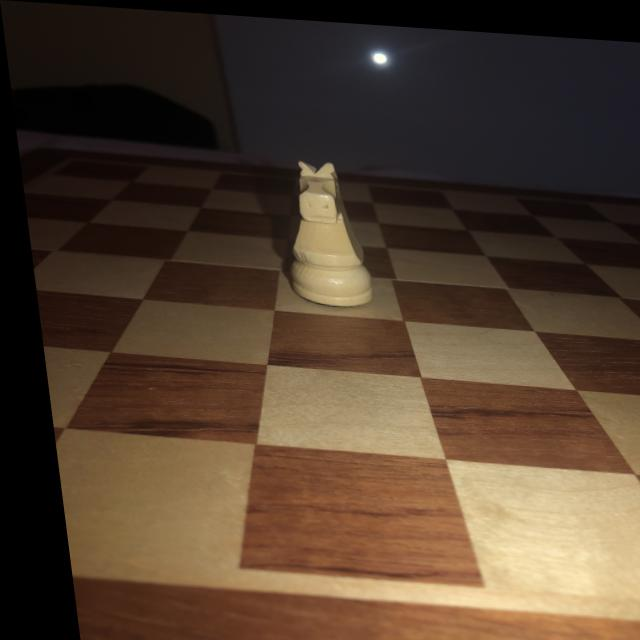white_knight: (269, 155, 370, 304)
